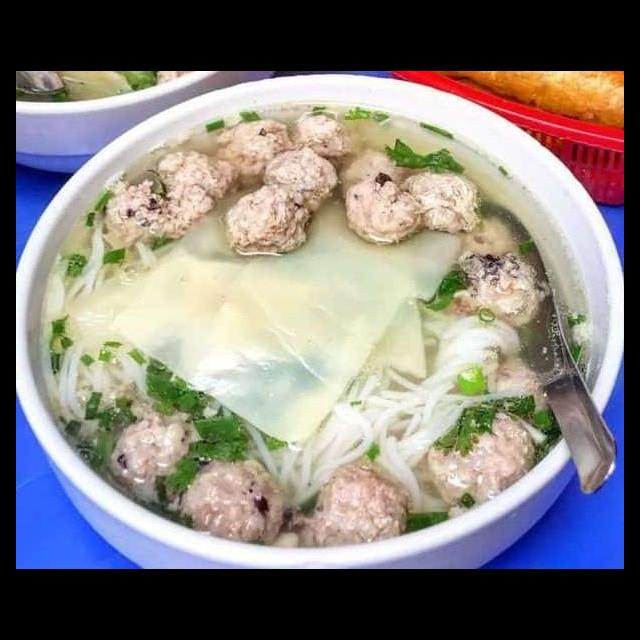bun: (233, 303, 531, 504), (40, 325, 153, 444)
vien moc: (173, 441, 309, 560), (82, 408, 214, 519), (414, 403, 552, 508), (295, 454, 424, 562), (88, 177, 217, 276), (440, 248, 568, 336), (229, 188, 328, 276), (395, 168, 504, 236), (344, 180, 432, 251), (206, 120, 295, 181), (154, 151, 251, 200), (262, 151, 339, 211), (332, 143, 437, 187), (287, 108, 367, 163)
